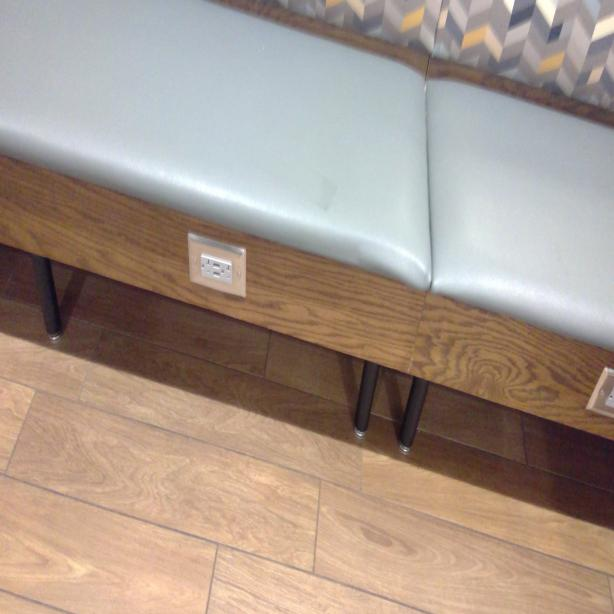typeb: (221, 262, 233, 284), (200, 257, 213, 277)
